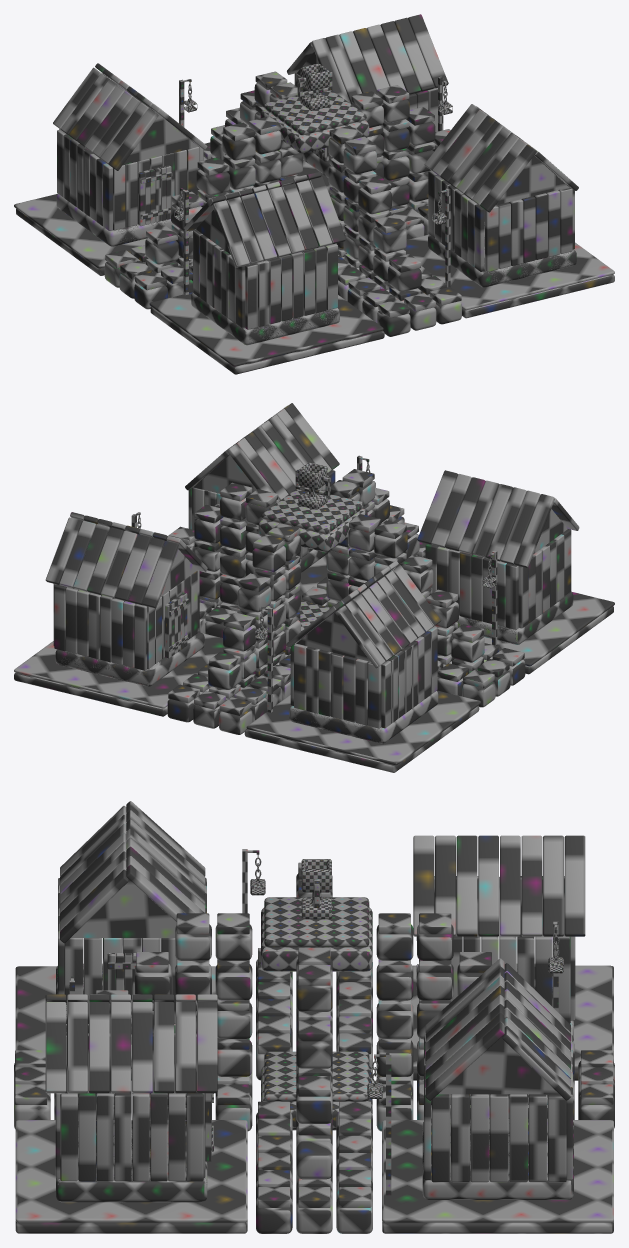
The model's file is DICEB.glb.
The picture shows the model from 3 angles, top to bottom: view 1: azimuth 30°, elevation 25°; view 2: azimuth 150°, elevation 25°; view 3: azimuth 270°, elevation 25°; orthographic projection. The views are drawn at different scales.
Parts seen in each view (by area): view 1: Plane.009, Plane.001, Cube.302, Cube.300, Cube.303, Cube.306, Cube.309, Cube.311, Plane.002, Cube.298, Plane.003, Cube.313 (+24 smaller); view 2: Plane.009, Plane.001, Cube.303, Cube.301, Cube.302, Cube.306, Cube.312, Cube.313, Plane.002, Cube, Plane.003, Cube.309 (+23 smaller); view 3: Plane.009, Plane.001, Cube.301, Cube.300, Cube.306, Cube.311, Cube.303, Plane.002, Cube.307, Plane.003, Cube.312, Cube.302 (+62 smaller).
Boxes of the visible parts, left/top/right/bottom form: Plane.009: left=53, top=14, right=578, bottom=267; Plane.001: left=57, top=73, right=574, bottom=329; Cube.302: left=149, top=292, right=383, bottom=366; Cube.300: left=403, top=234, right=614, bottom=309; Cube.303: left=14, top=193, right=147, bottom=268; Cube.306: left=263, top=90, right=366, bottom=135; Cube.309: left=191, top=292, right=339, bottom=345; Cube.311: left=428, top=222, right=576, bottom=287; Plane.002: left=102, top=73, right=568, bottom=254; Cube.298: left=150, top=306, right=384, bottom=374; Plane.003: left=123, top=51, right=318, bottom=165; Cube.313: left=56, top=194, right=173, bottom=246; Plane.009: left=45, top=403, right=579, bottom=668; Plane.001: left=53, top=470, right=571, bottom=728; Cube.303: left=246, top=690, right=480, bottom=765; Cube.301: left=14, top=633, right=225, bottom=708; Cube.302: left=483, top=591, right=614, bottom=666; Cube.306: left=261, top=489, right=364, bottom=534; Cube.312: left=55, top=632, right=204, bottom=686; Cube.313: left=289, top=691, right=438, bottom=743; Plane.002: left=296, top=509, right=567, bottom=661; Cube: left=244, top=705, right=479, bottom=772; Plane.003: left=160, top=455, right=392, bottom=597; Cube.309: left=456, top=592, right=573, bottom=644; Plane.009: left=45, top=801, right=585, bottom=1100; Plane.001: left=55, top=876, right=575, bottom=1182; Cube.301: left=382, top=1120, right=613, bottom=1222; Cube.300: left=15, top=1120, right=247, bottom=1222; Cube.306: left=264, top=897, right=369, bottom=947; Cube.311: left=56, top=1121, right=207, bottom=1202; Cube.303: left=411, top=965, right=613, bottom=1068; Plane.002: left=438, top=1037, right=558, bottom=1094; Cube.307: left=264, top=1051, right=369, bottom=1101; Plane.003: left=71, top=879, right=176, bottom=937; Cube.312: left=422, top=1118, right=573, bottom=1199; Cube.302: left=15, top=966, right=215, bottom=1068.
Size of what is drawn, in the model's own units: 14.92 by 6.67 by 14.86.
13 materials, 13 textured.
